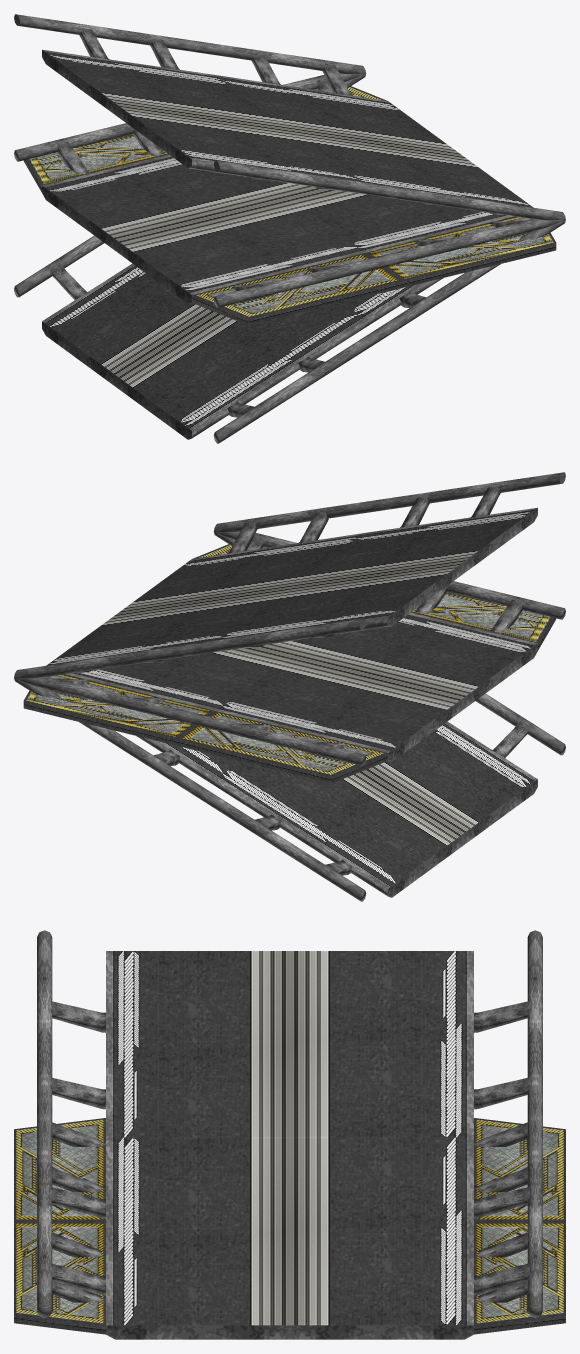
The model's file is roads_mesh.fbx.
3 views of the same model, one above another, from view 1: azimuth 30°, elevation 25°; view 2: azimuth 150°, elevation 25°; view 3: azimuth 270°, elevation 25° (orthographic). The views are drawn at different scales.
Visible parts, largest first — view 1: roadRampUp01, road01, roadRampDown01, roadWithShoulder; view 2: roadRampUp01, road01, roadRampDown01, roadWithShoulder; view 3: roadRampUp01, roadWithShoulder, road01, roadRampDown01.
Boxes of the visible parts, x1=… form: roadRampUp01: x1=14, y1=14, x2=565, y2=220; road01: x1=14, y1=73, x2=565, y2=307; roadRampDown01: x1=14, y1=74, x2=565, y2=443; roadWithShoulder: x1=23, y1=86, x2=556, y2=325; roadRampUp01: x1=14, y1=472, x2=565, y2=678; road01: x1=14, y1=531, x2=565, y2=765; roadRampDown01: x1=14, y1=532, x2=565, y2=901; roadWithShoulder: x1=23, y1=544, x2=556, y2=783; roadRampUp01: x1=37, y1=930, x2=542, y2=1325; roadWithShoulder: x1=14, y1=1118, x2=565, y2=1339; road01: x1=37, y1=1122, x2=542, y2=1339; roadRampDown01: x1=37, y1=1305, x2=542, y2=1339.
Size of the model in its own units: 3200 by 2654 by 3600.
